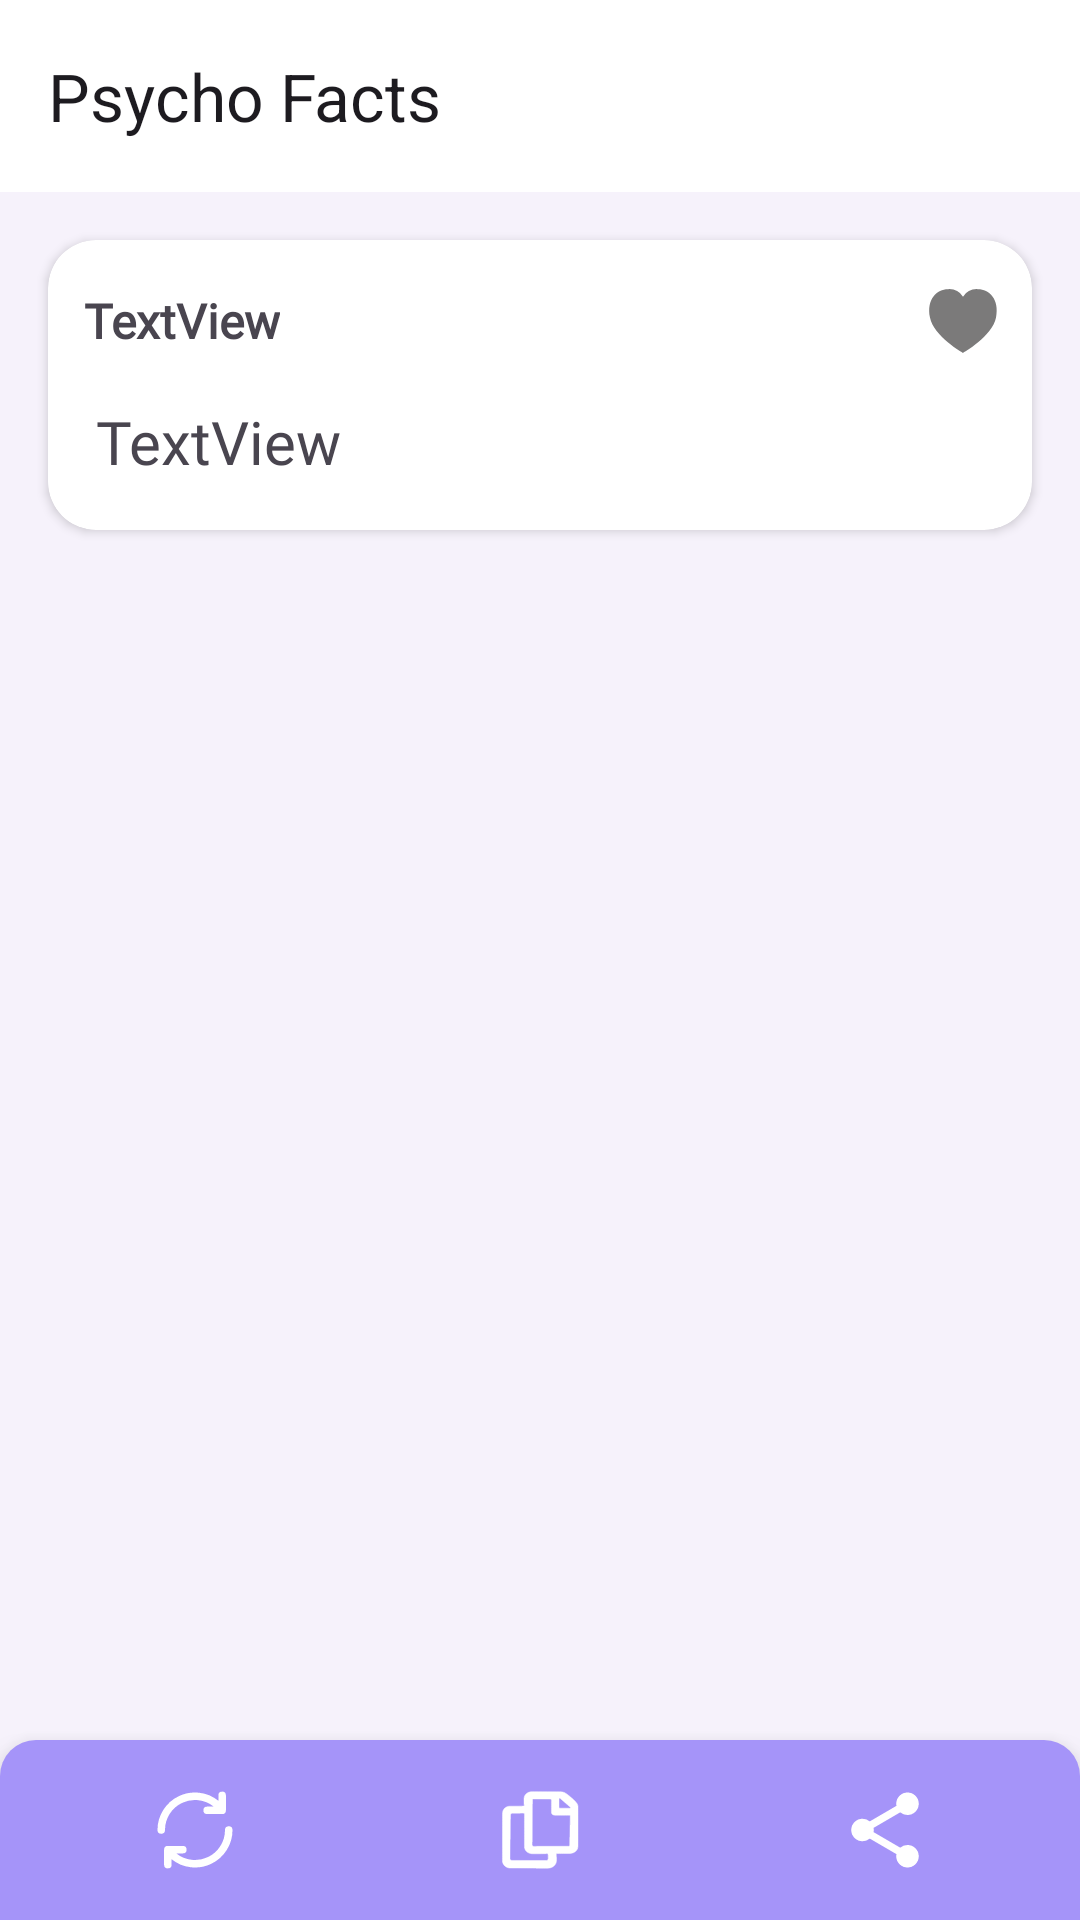

Where to tap for icons on this 1080x1920 app screen, as point (x, y):
share: point (885, 1830)
unlike: point (963, 321)
